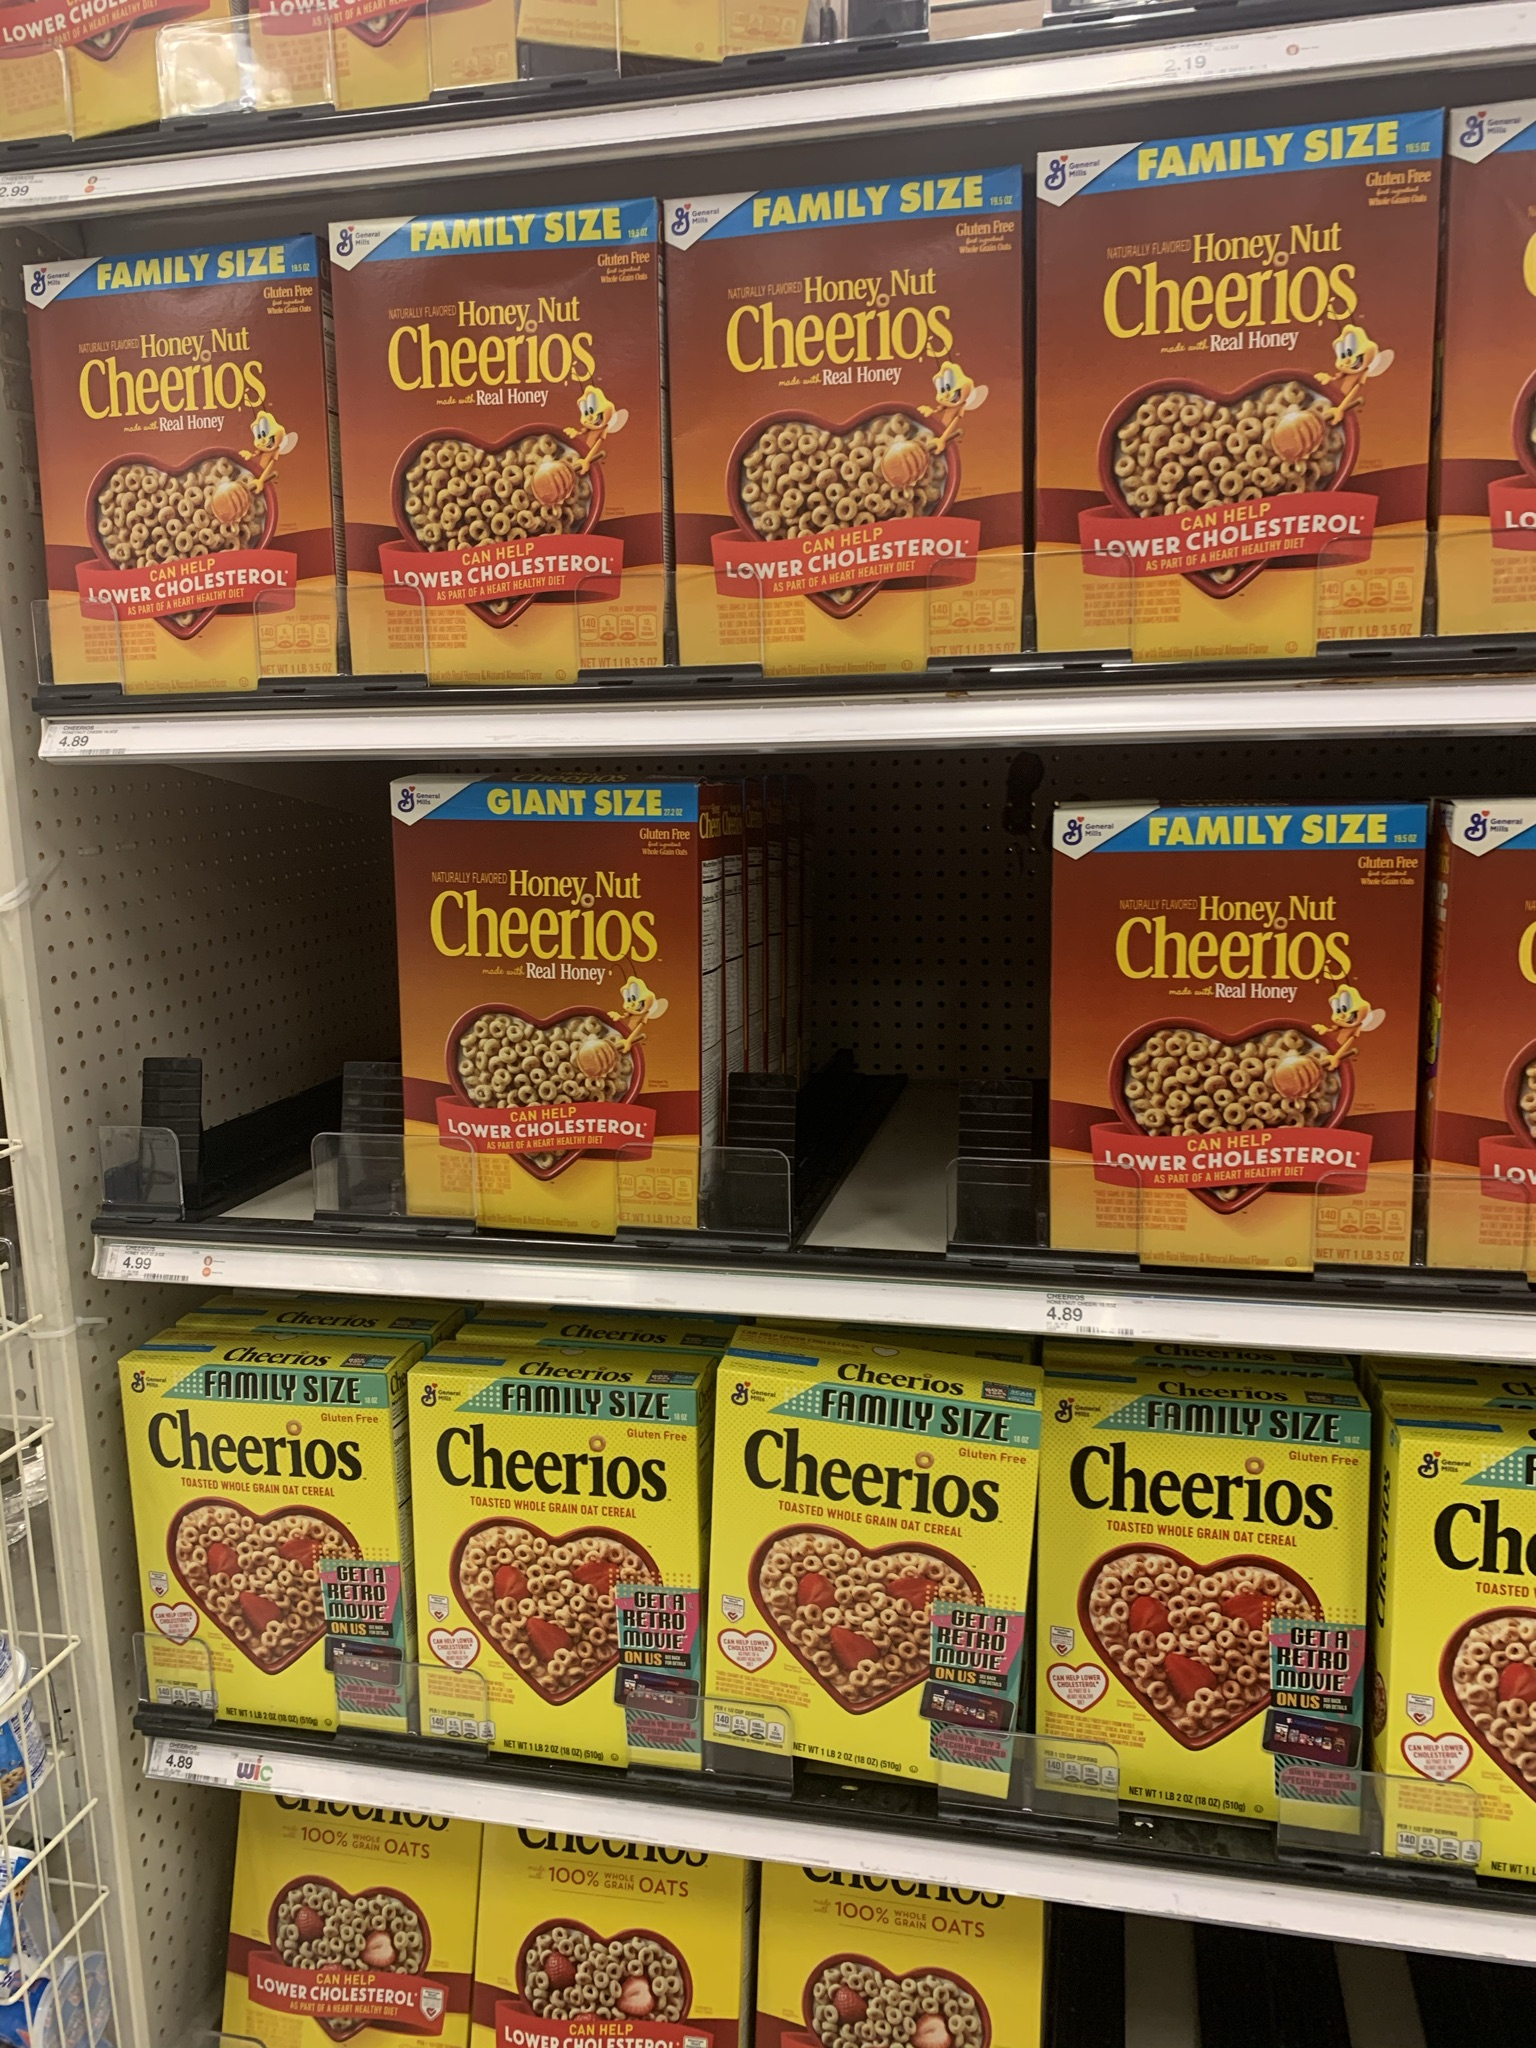cheerios cereral: (1066, 834, 1397, 1264), (1058, 174, 1394, 569), (369, 248, 682, 666), (697, 235, 987, 651), (1062, 1414, 1339, 1796), (733, 1400, 1007, 1771), (411, 810, 687, 1174), (147, 1397, 424, 1737), (444, 1405, 687, 1729), (56, 302, 303, 510)
